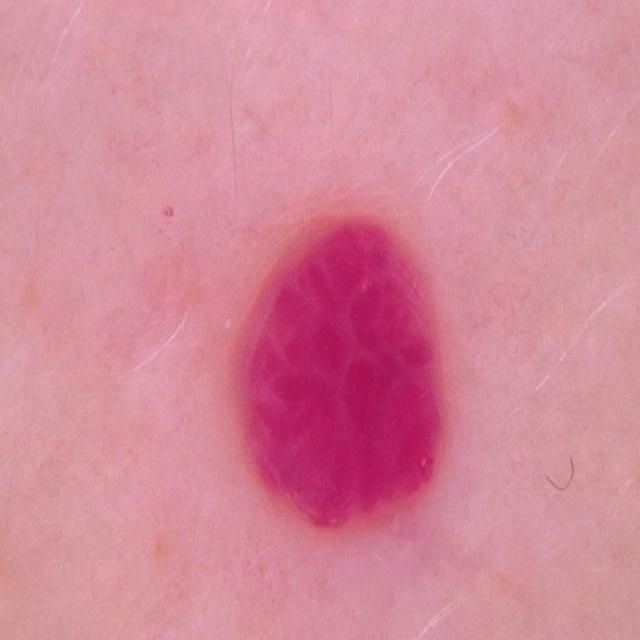Vascular Lesions: (176, 206, 538, 578)
